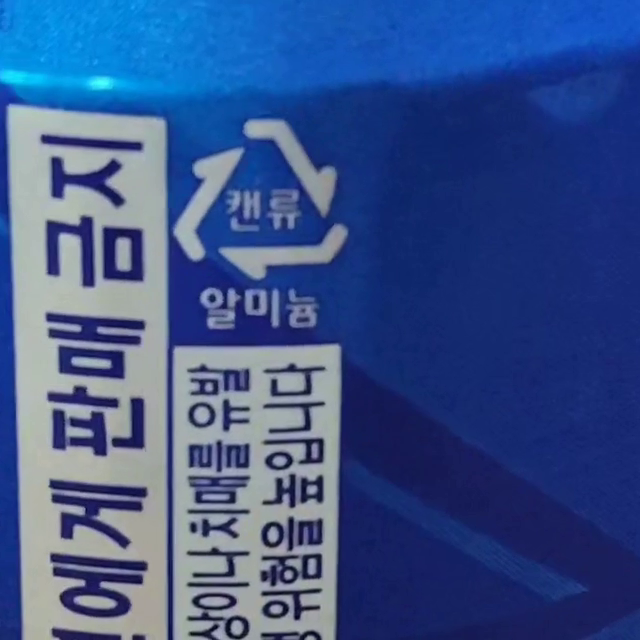Can: (171, 119, 348, 277)
